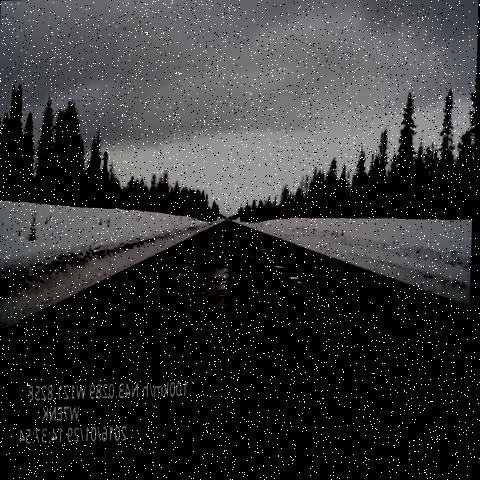pothole: (255, 238, 309, 296), (206, 279, 242, 317), (215, 253, 238, 276)
